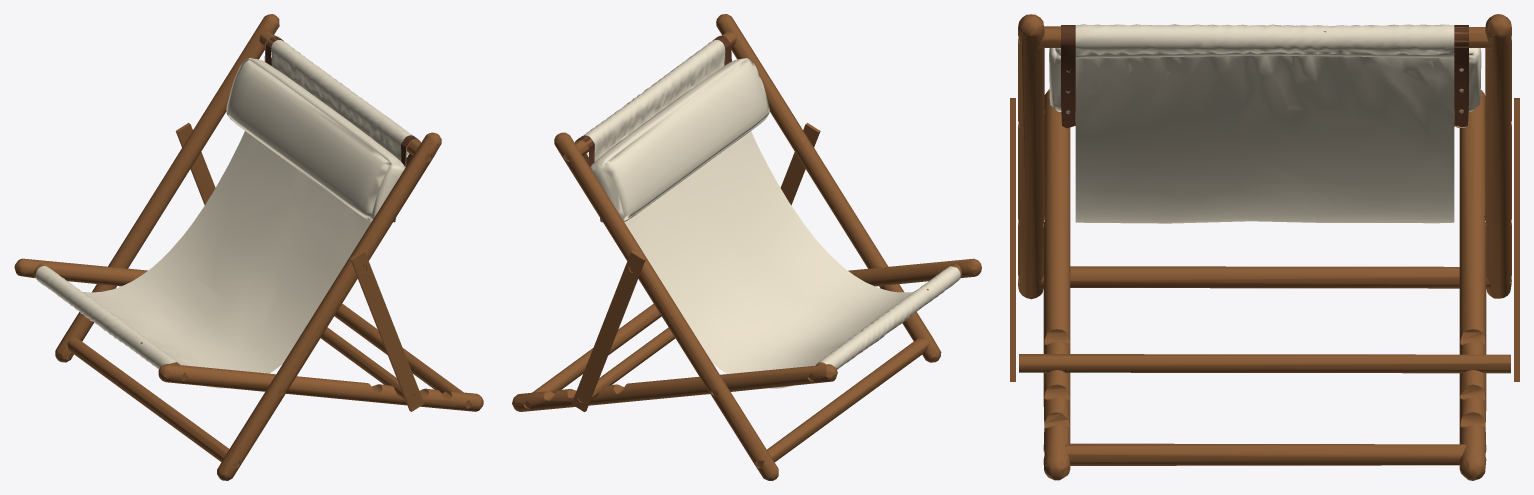
File: deckchair.glb
3 renders of one model, left to right at view 1: azimuth 30°, elevation 25°; view 2: azimuth 150°, elevation 25°; view 3: azimuth 270°, elevation 25°, orthographic. The views are drawn at different scales.
Parts seen in each view (by area): view 1: canvas, teak; view 2: canvas, teak; view 3: canvas, teak, leather.
Part boxes in pixels (<box>): canvas: <box>35,40,413,388</box>; teak: <box>14,14,483,480</box>; canvas: <box>584,40,960,388</box>; teak: <box>512,14,981,480</box>; canvas: <box>1049,24,1481,223</box>; teak: <box>1010,14,1519,480</box>; leather: <box>1061,25,1468,128</box>.
Size of the model in its own units: 0.9228 by 0.8094 by 0.8729.
